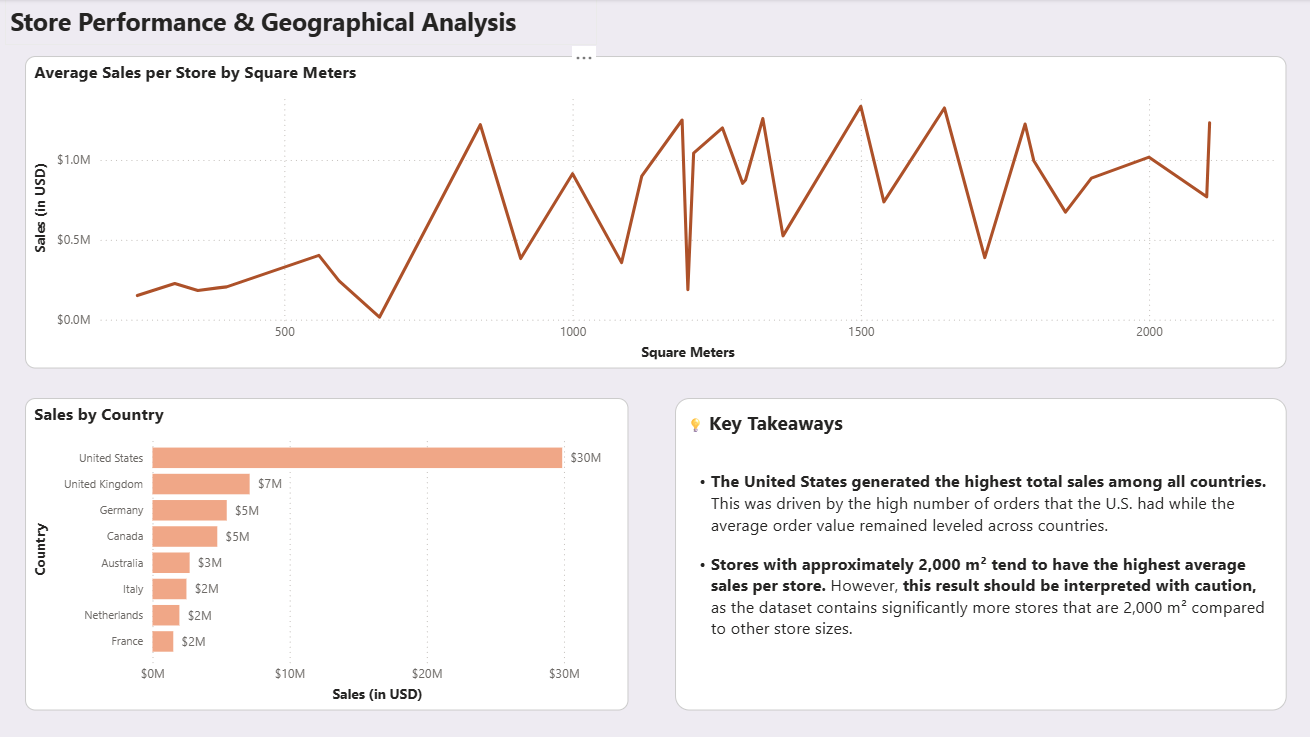

This screenshot's page, from the dashboard's own definition file:
{"tool":"powerbi","page":{"name":"Store Performance","canvas":[1280,720],"ordinal":3},"visuals":[{"type":"lineChart","title":"Average Sales per Store by Square Meters","fields":{"Category":["Stores.Square Meters"],"Y":["sales_cleaned.Average Sales Per Store"]},"box":[26.3,55.4,1227.5,304.4],"z":0},{"type":"textbox","box":[6.8,0,575.8,44.7],"z":1000},{"type":"barChart","title":"Sales by Country","fields":{"Category":["customers_cleaned.Country"],"Y":["Sum(sales_cleaned.Sales)"]},"box":[26.3,388.1,586.5,304.4],"z":2000},{"type":"textbox","box":[658.5,388.1,595.3,304.4],"z":3000}]}

Visuals, with their boxes in screenshot pixels (x1, y1, x2, y2), scaled from the page's 1280x720 canvas onto the 1310x737 screenshot:
"Average Sales per Store by Square Meters" lineChart: x1=27, y1=57, x2=1283, y2=368
textbox: x1=7, y1=0, x2=596, y2=46
"Sales by Country" barChart: x1=27, y1=397, x2=627, y2=709
textbox: x1=674, y1=397, x2=1283, y2=709
